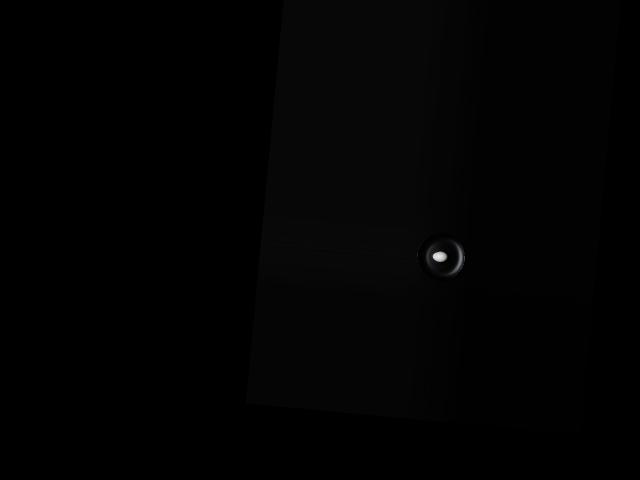egg: (432, 250, 448, 262)
